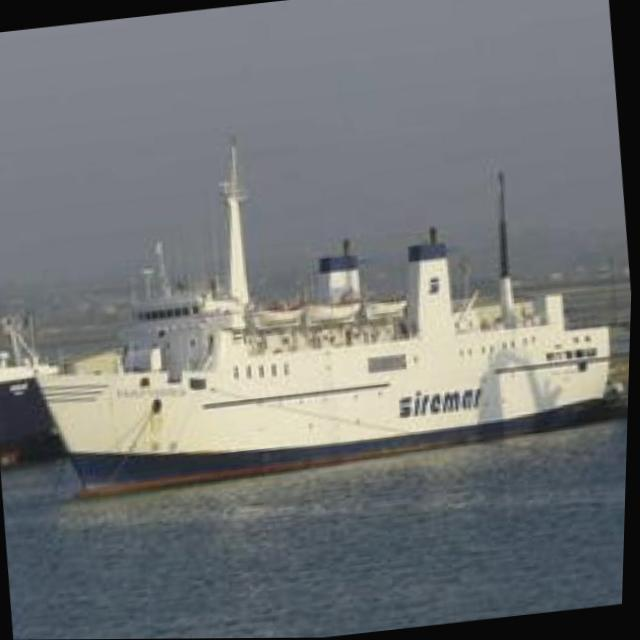ship2: (38, 135, 617, 502)
